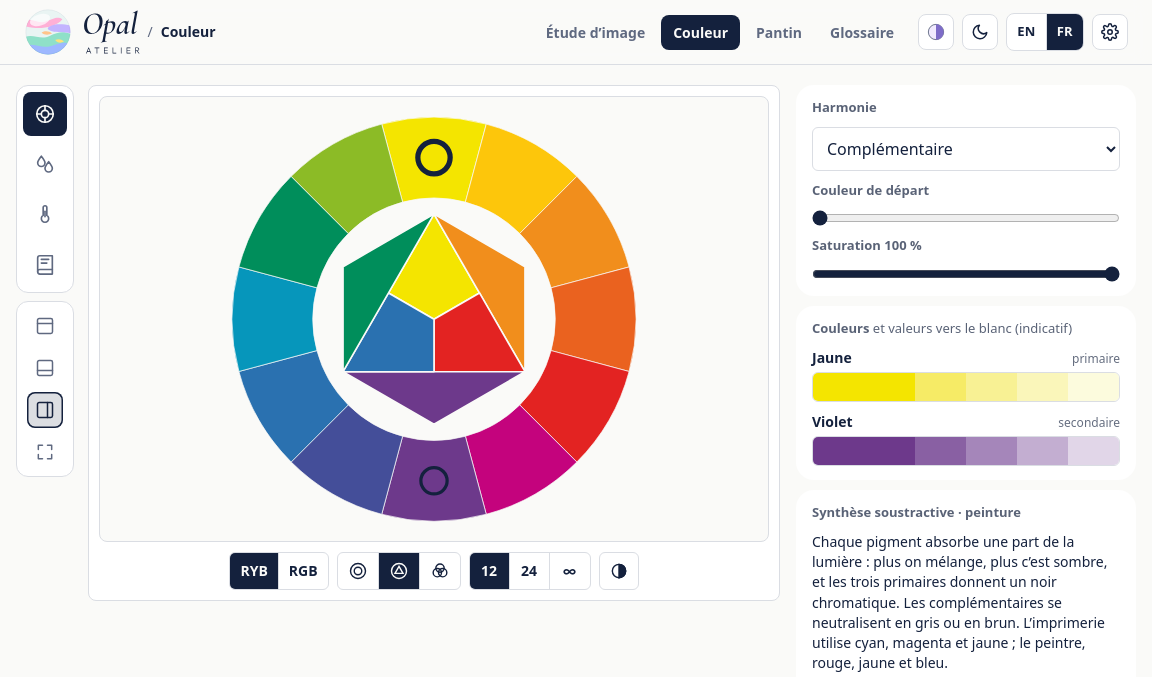
Scenario: Colour tool › changes harmony and lists its colours with their rank
Select "Triade" in the dropdown named "Harmonie": (966, 149) [812, 127, 1120, 171]
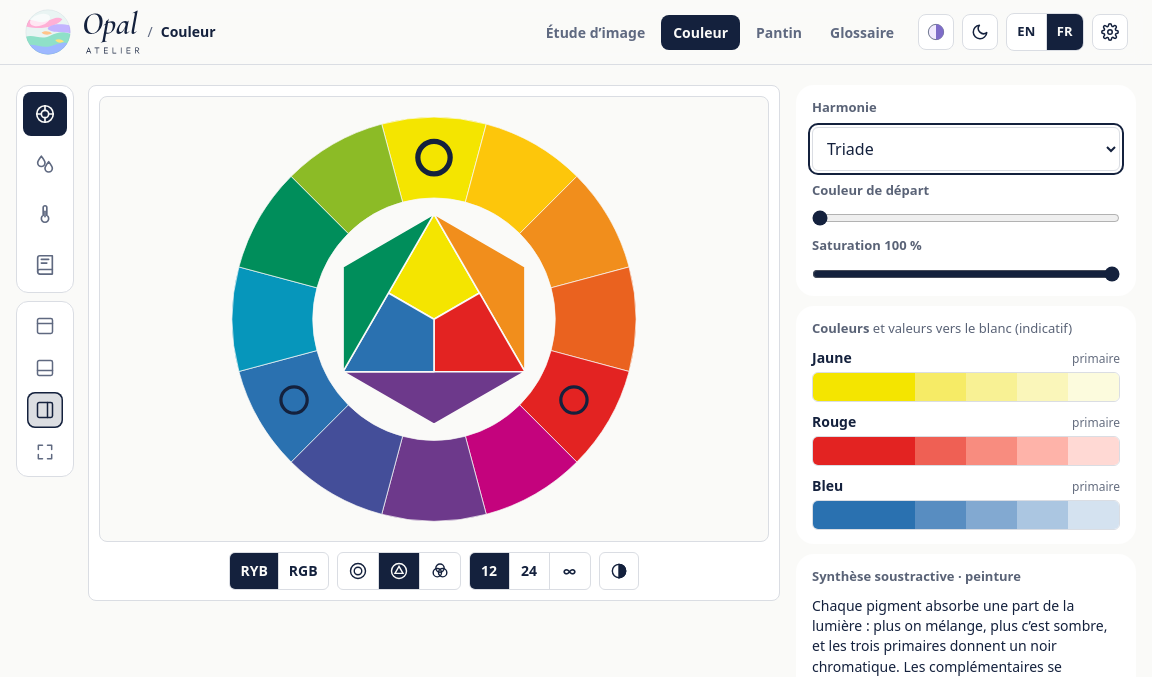
Now the text "primaire" is shown 3 times, box [1072, 351, 1120, 367]; [1072, 415, 1120, 431]; [1072, 479, 1120, 495]
Now the text "Rouge" is shown, box [812, 412, 856, 432]
